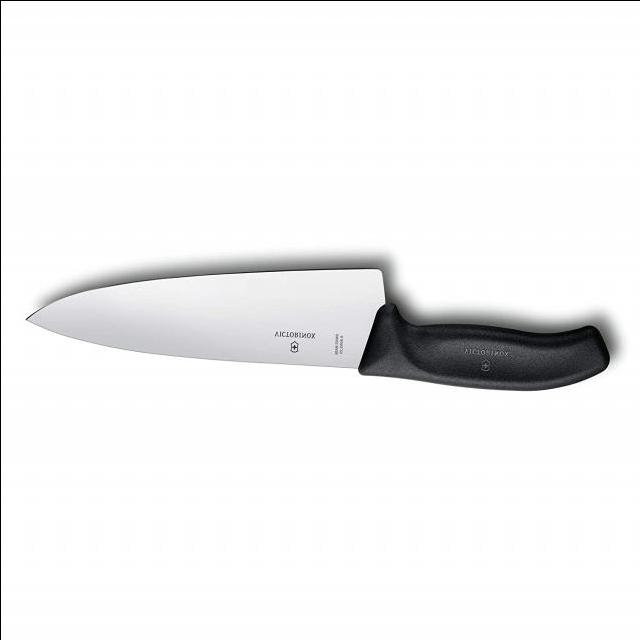knife: (12, 240, 638, 402)
